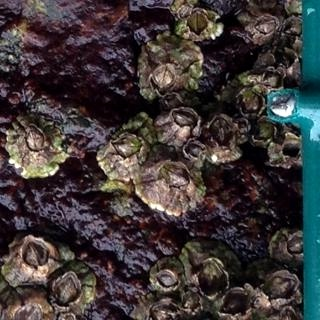Barnacle: (260, 274, 298, 303), (198, 262, 225, 297), (55, 275, 81, 306), (209, 118, 234, 150), (151, 65, 177, 95), (21, 242, 49, 269), (160, 165, 189, 190), (237, 89, 262, 116), (188, 11, 211, 36), (254, 14, 280, 36), (174, 106, 198, 129), (116, 137, 141, 159), (184, 140, 206, 164), (151, 300, 178, 319), (15, 301, 43, 319), (286, 234, 307, 257), (180, 289, 200, 313), (254, 120, 275, 142), (26, 129, 44, 153), (160, 269, 180, 289), (177, 4, 192, 20)
